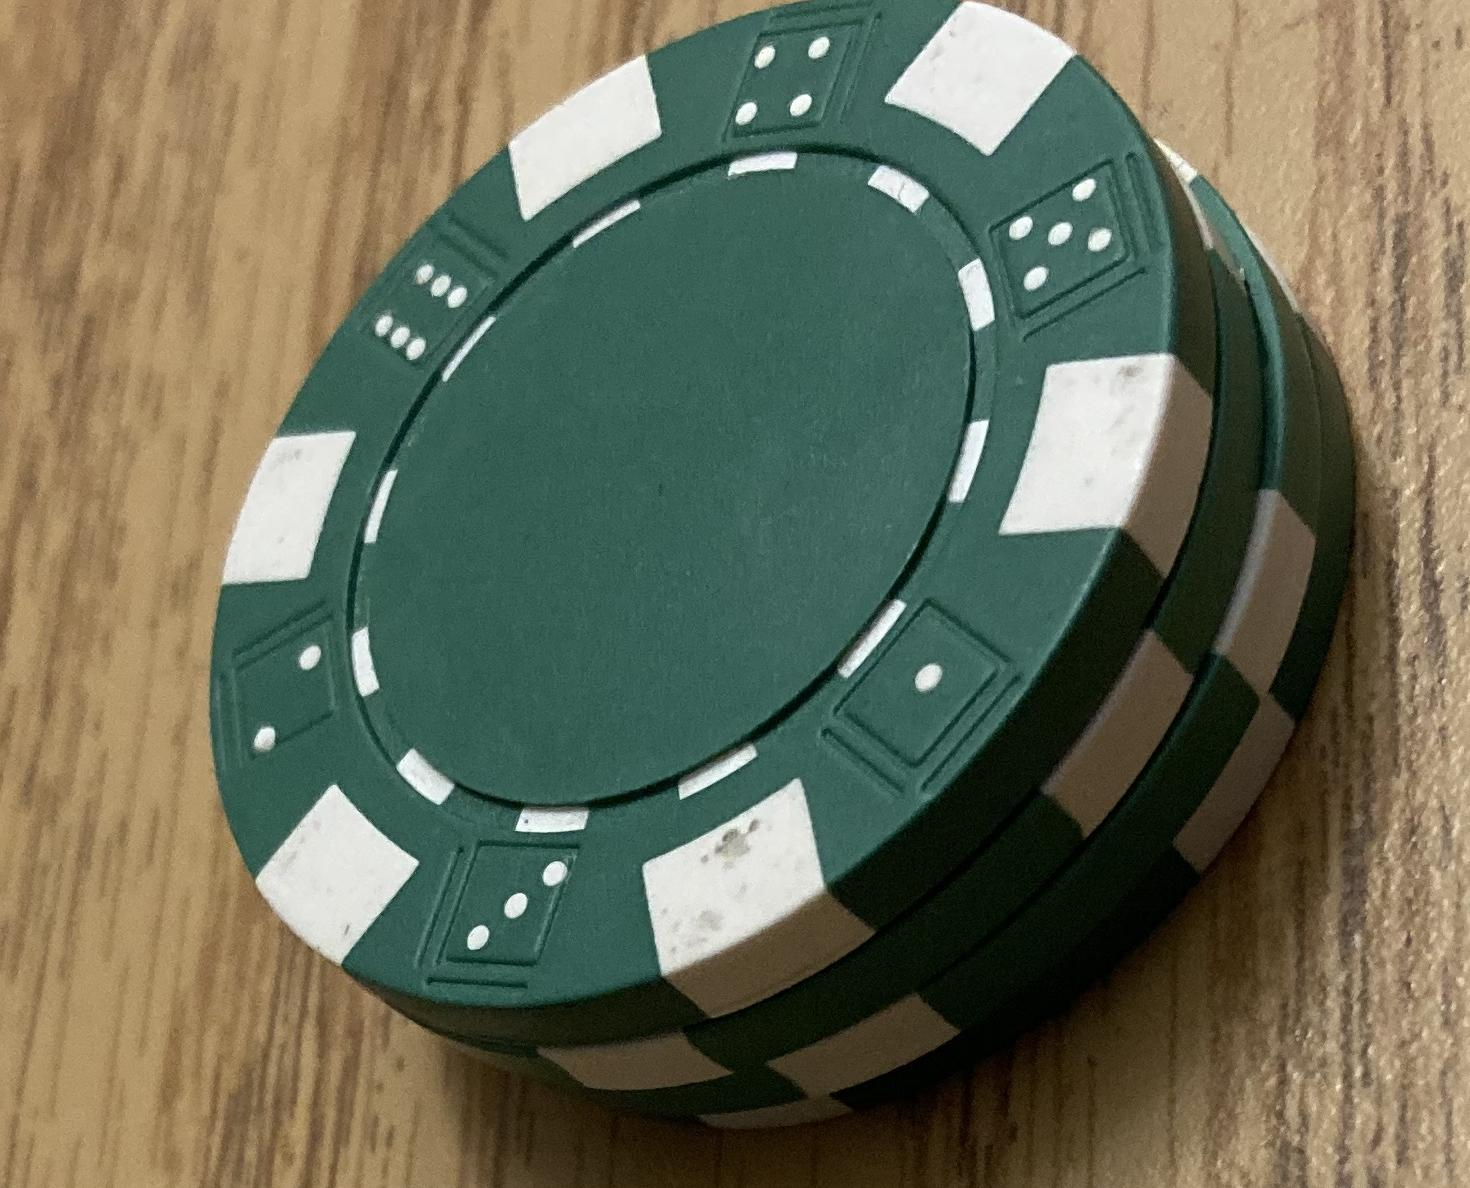Chip: (1, 1, 1470, 1188)
